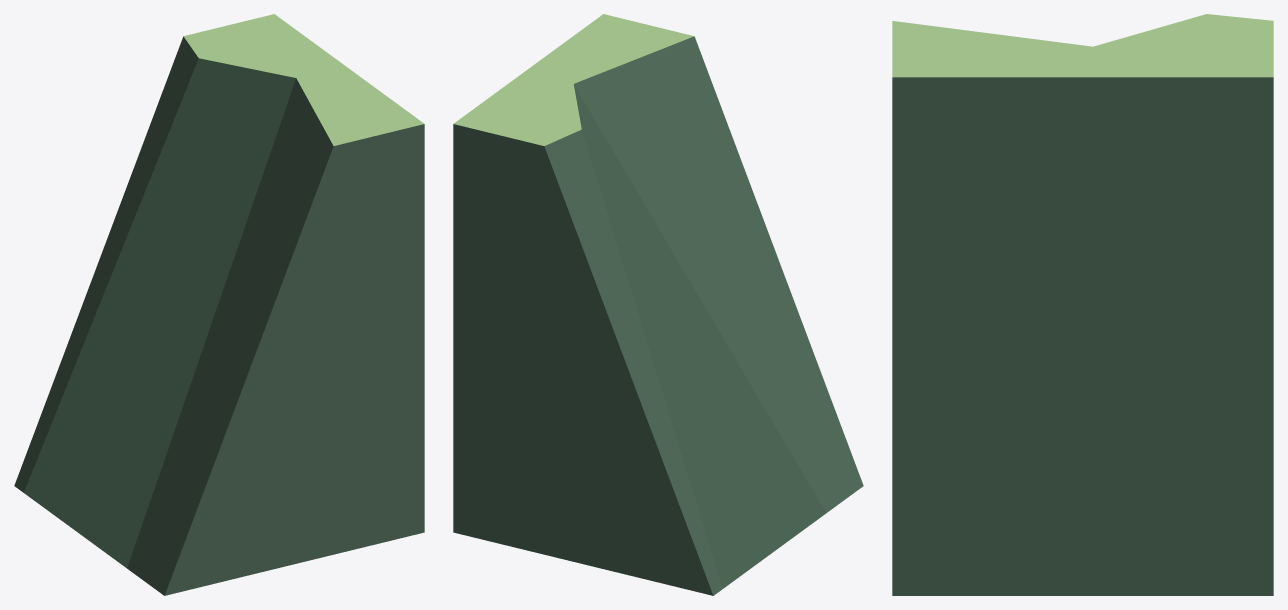
The model's file is GroundEdge06.fbx.
3 views of the same model, side by side, from view 1: azimuth 30°, elevation 25°; view 2: azimuth 150°, elevation 25°; view 3: azimuth 270°, elevation 25° (orthographic). The views are drawn at different scales.
Parts seen in each view (by area): view 1: Cube.007; view 2: Cube.007; view 3: Cube.007.
Part boxes in pixels (x1,y1,x2,y2): Cube.007: (14, 14, 424, 595); Cube.007: (453, 14, 863, 595); Cube.007: (892, 14, 1273, 595).
Size of the model in its own units: 100 by 150 by 100.
